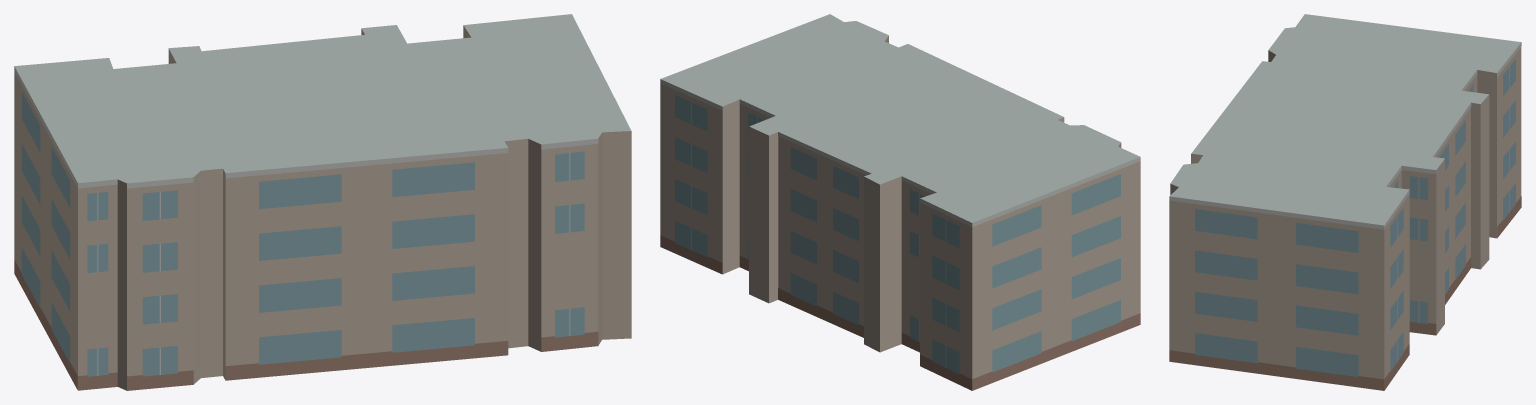
File: survey-upis-32947757.glb
3 renders of one model, left to right at view 1: azimuth 30°, elevation 25°; view 2: azimuth 150°, elevation 25°; view 3: azimuth 270°, elevation 25°, orthographic. The views are drawn at different scales.
Parts seen in each view (by area): view 1: survey-upis-32947757.tmp; view 2: survey-upis-32947757.tmp; view 3: survey-upis-32947757.tmp.
Boxes of the visible parts, x1=… form: survey-upis-32947757.tmp: x1=14, y1=14, x2=631, y2=390; survey-upis-32947757.tmp: x1=660, y1=14, x2=1140, y2=390; survey-upis-32947757.tmp: x1=1169, y1=14, x2=1521, y2=390.
Size of the model in its own units: 26.76 by 9.75 by 18.82.
